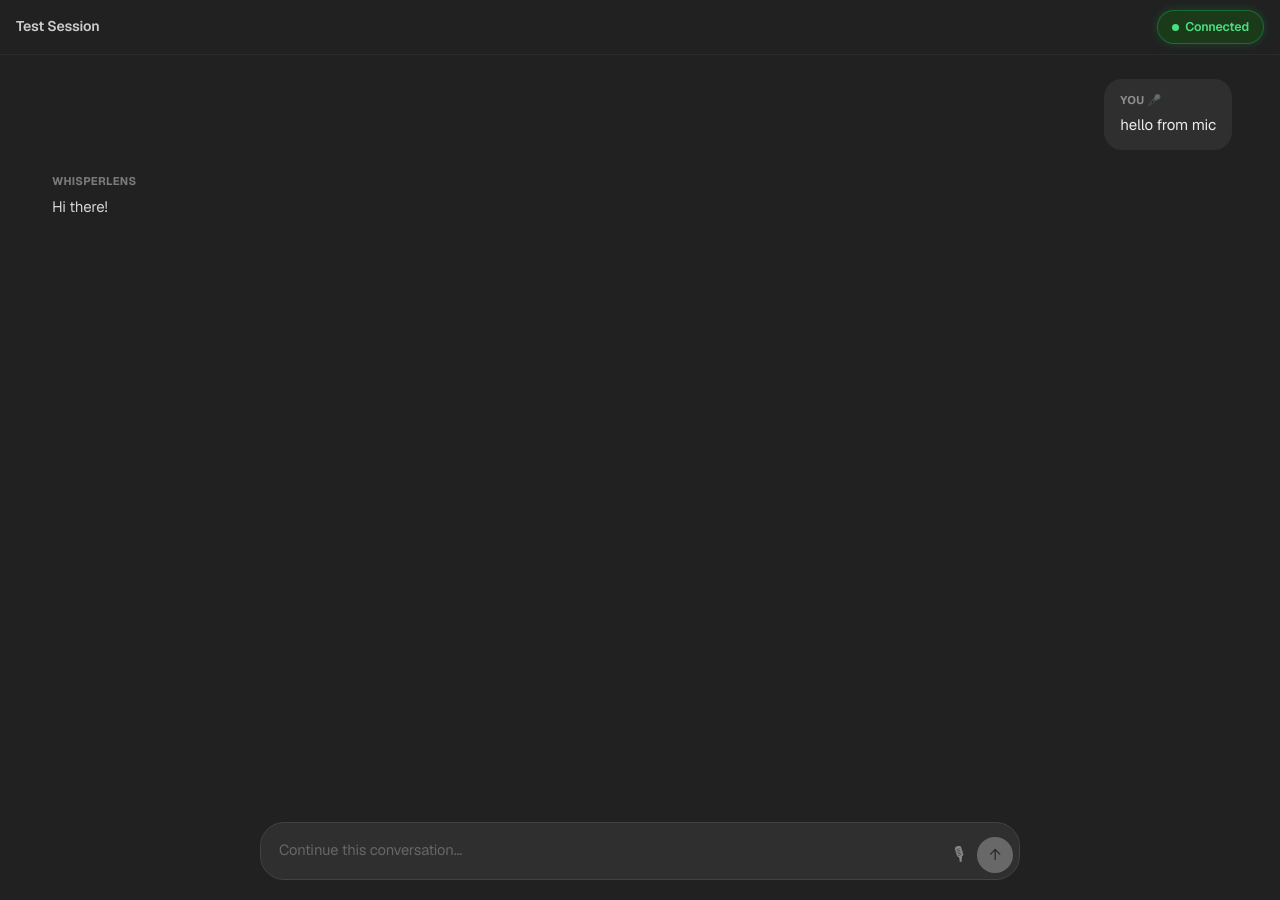
Test: SessionDetailPanel › allows continuing conversation via text input
Expected: the element with test id "session-messages" is shown, [52, 79, 1232, 216]
Type "follow up question" into the text box with test id "text-input".
click(604, 851); type("follow up question")  # box [267, 829, 941, 873]
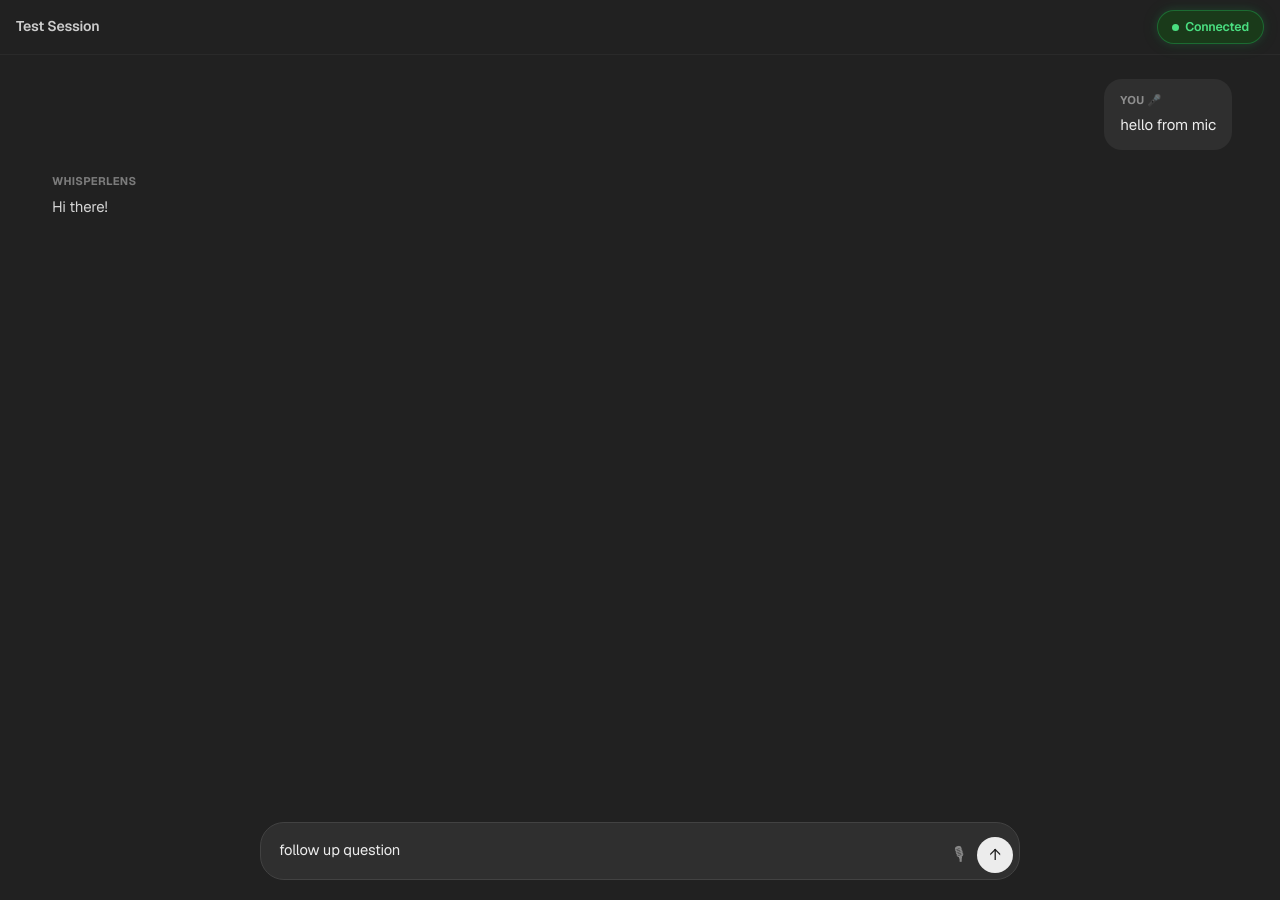
Click the button with test id "send-button".
click(995, 855)  # box [977, 837, 1013, 873]
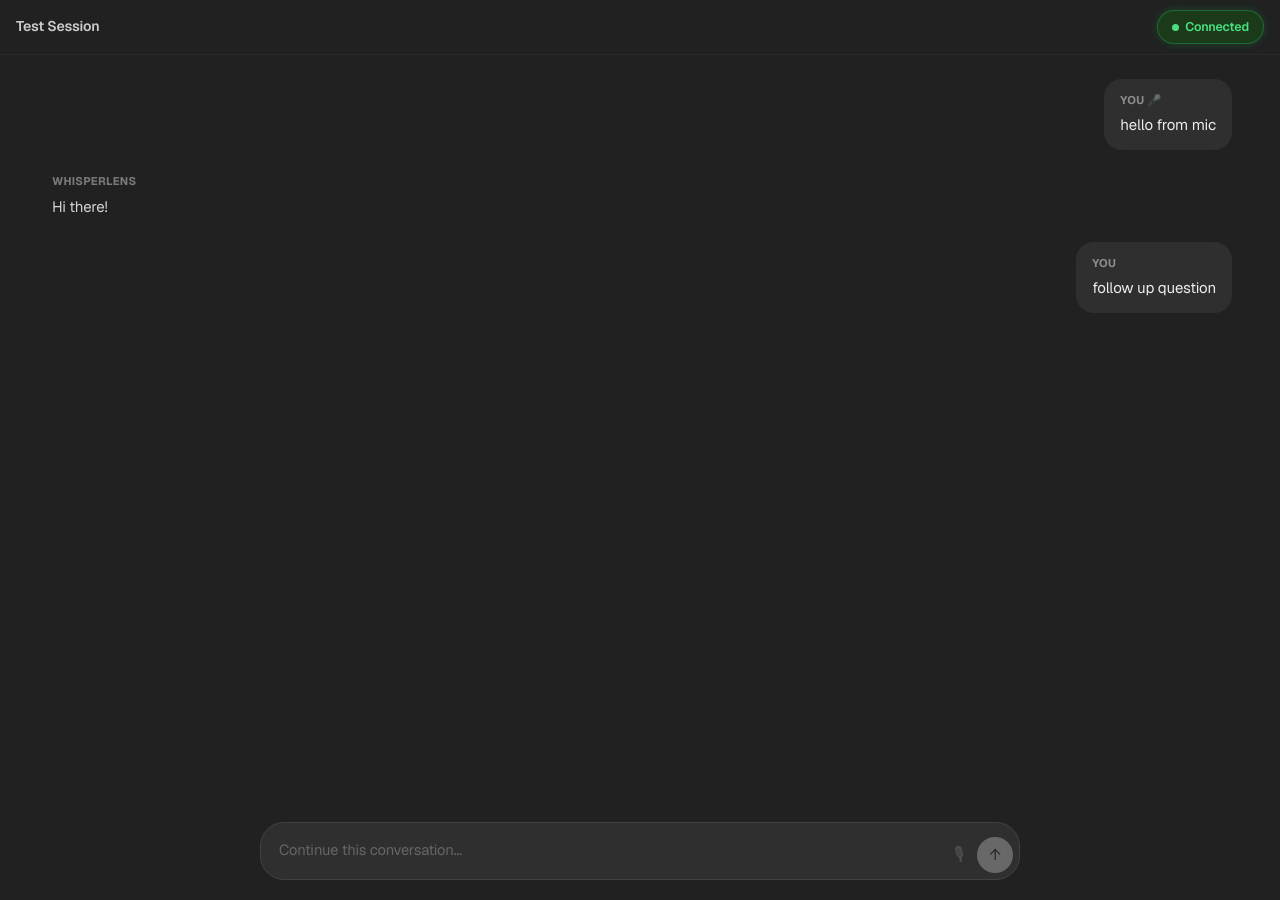
Now the element with test id "session-messages" shows "follow up question", box [1092, 278, 1216, 297]
